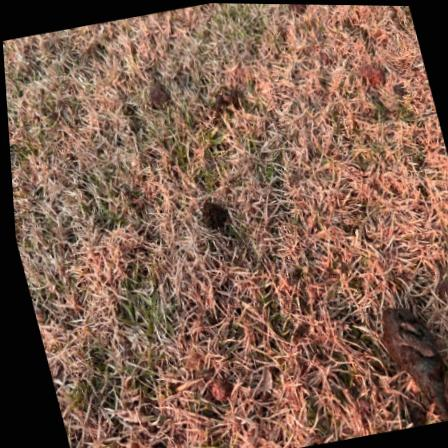dog-poop: (362, 286, 448, 419)
